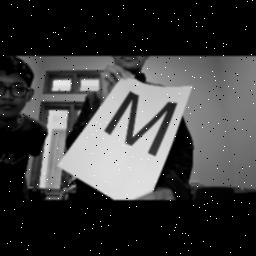m: (98, 82, 192, 170)
